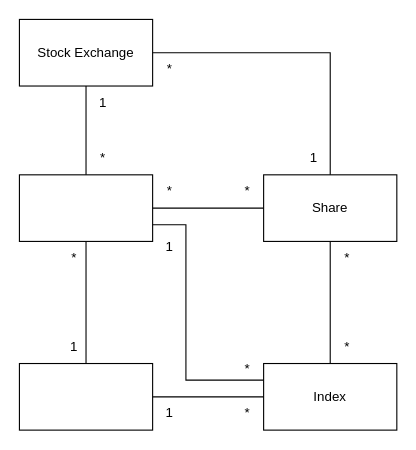
This 416x450 diagram has some shape labels left out. Each missing label, with the centre of its shape:
"Company" goes at pixel 85 207.
"User" goes at pixel 85 396.
